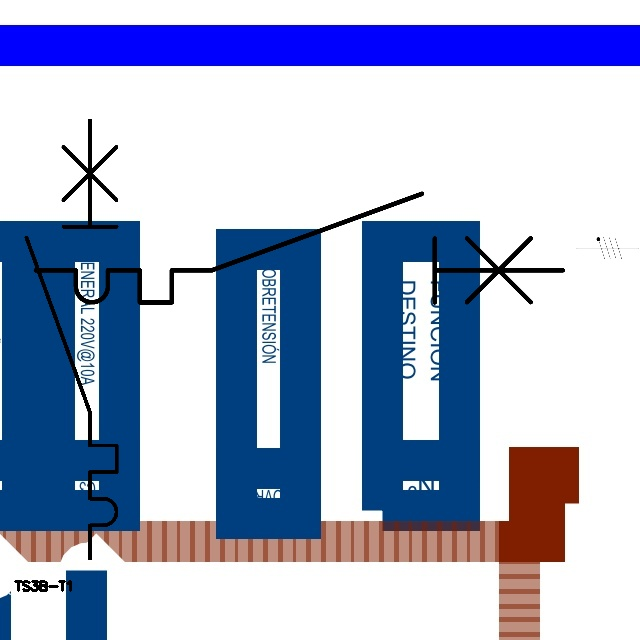interruptor_termomagnetico: (22, 180, 576, 316), (15, 109, 128, 570)
